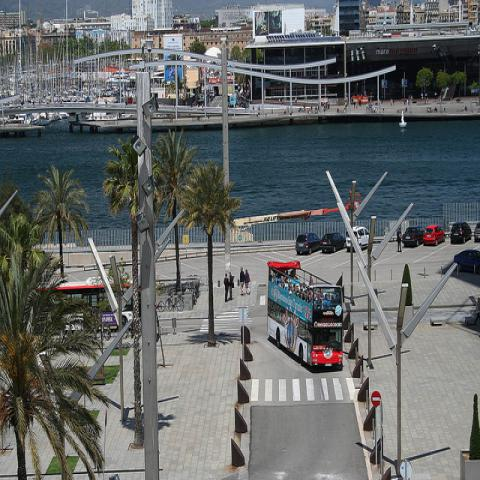bus: (266, 259, 343, 370), (57, 282, 133, 330)
car: (297, 227, 369, 256), (453, 249, 480, 275), (403, 226, 425, 250), (321, 232, 345, 254), (423, 224, 446, 246), (451, 222, 472, 244), (474, 221, 479, 242)
